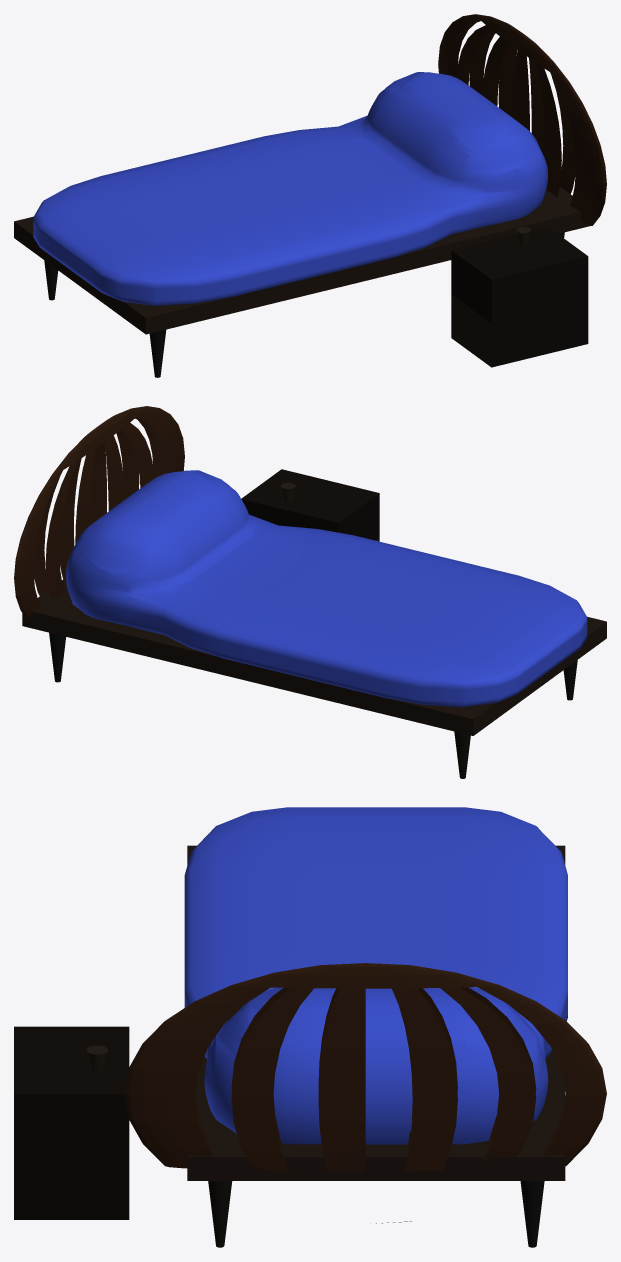
The model's file is bed.obj.
3 renders of one model, top to bottom at view 1: azimuth 30°, elevation 25°; view 2: azimuth 150°, elevation 25°; view 3: azimuth 270°, elevation 25°, orthographic. The views are drawn at different scales.
Visible parts, largest first — view 1: Mball, Cube.001, Sphere, Cube, Cylinder; view 2: Mball, Sphere, Cube, Cube.001, Cylinder.002, Cylinder.001; view 3: Mball, Sphere, Cube.001, Cube, Cylinder.002, Cylinder.003.
Boxes of the visible parts, box(x1,y1,x2,y2) form: Mball: box(33, 72, 547, 305); Cube.001: box(451, 226, 588, 367); Sphere: box(438, 14, 606, 225); Cube: box(14, 186, 590, 334); Cylinder: box(149, 329, 166, 377); Mball: box(66, 470, 587, 707); Sphere: box(14, 406, 184, 620); Cube: box(22, 577, 606, 735); Cube.001: box(241, 469, 379, 541); Cylinder.002: box(49, 632, 65, 682); Cylinder.001: box(454, 731, 470, 778); Mball: box(184, 807, 567, 1144); Sphere: box(124, 963, 606, 1223); Cube.001: box(14, 1026, 129, 1219); Cube: box(187, 845, 565, 1180); Cylinder.002: box(520, 1181, 544, 1247); Cylinder.003: box(208, 1181, 232, 1247).
Size of the model in its own units: 9.46 by 4.1 by 7.42.
